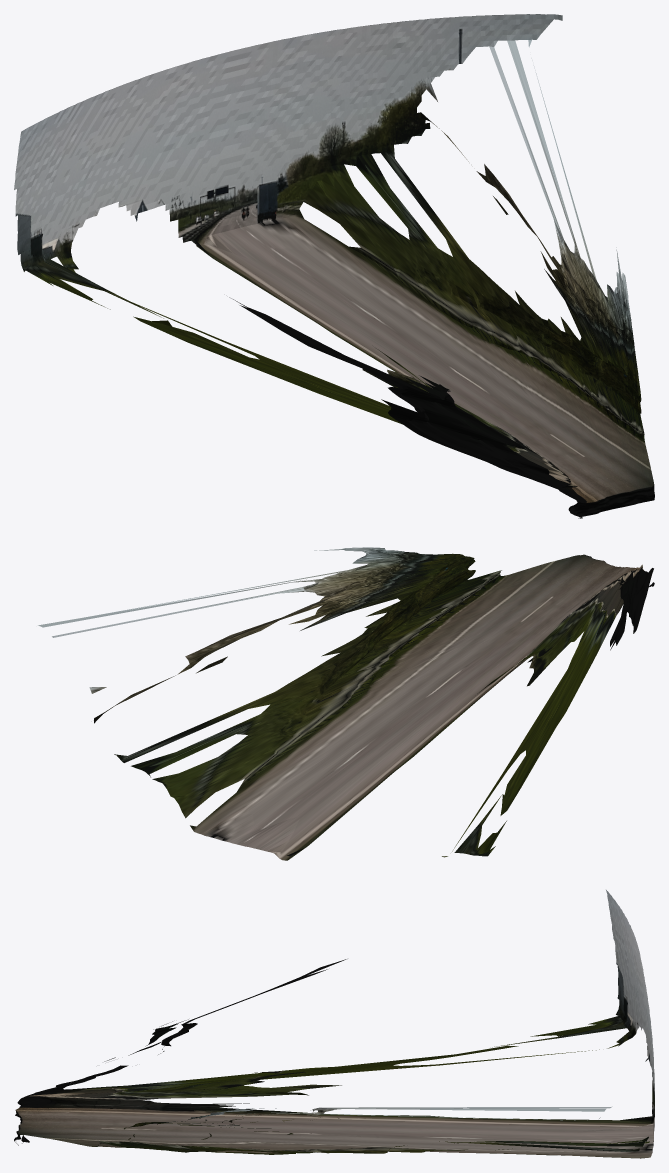
3 views of the same model, one above another, from view 1: azimuth 30°, elevation 25°; view 2: azimuth 150°, elevation 25°; view 3: azimuth 270°, elevation 25° (orthographic). The views are drawn at different scales.
Visible parts, largest first — view 1: defaultobject; view 2: defaultobject; view 3: defaultobject.
Boxes of the visible parts, x1,y1,x2,y2 form: defaultobject: [14, 14, 654, 518]; defaultobject: [38, 547, 654, 860]; defaultobject: [14, 890, 654, 1158].
Size of the model in its own units: 35.1 by 12.09 by 44.39.
Materials: 1 (1 with a texture image).
